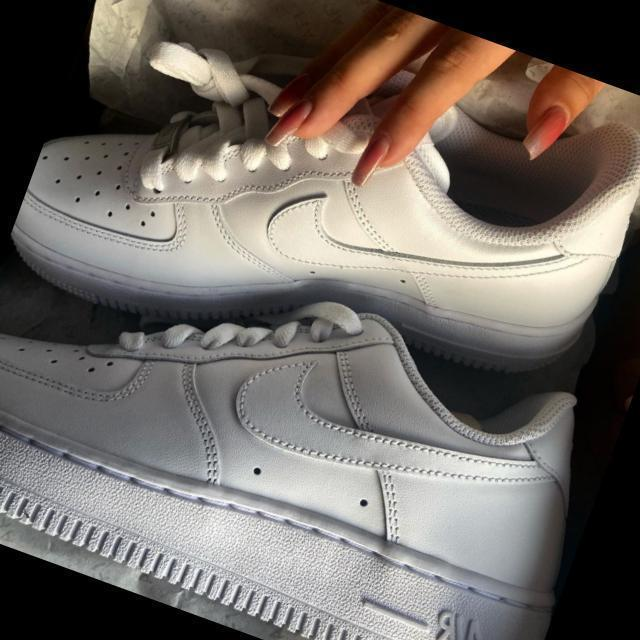nike original air force: (0, 0, 640, 481), (0, 194, 627, 640)
